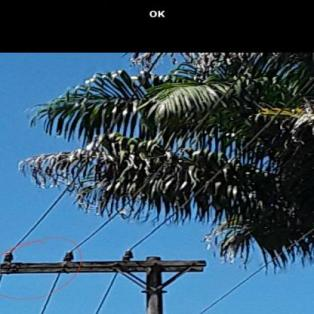Poste: (133, 262, 172, 314)
